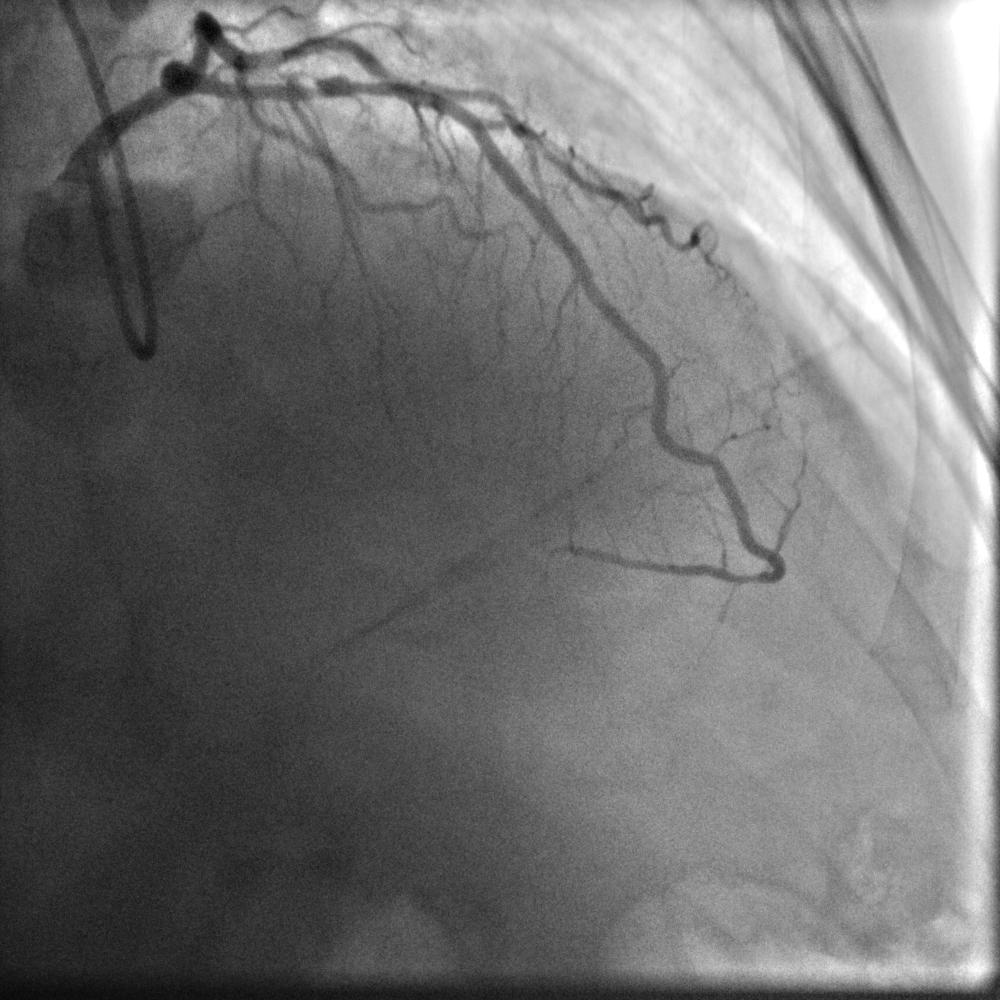Stenosis: (301, 78, 329, 100)
